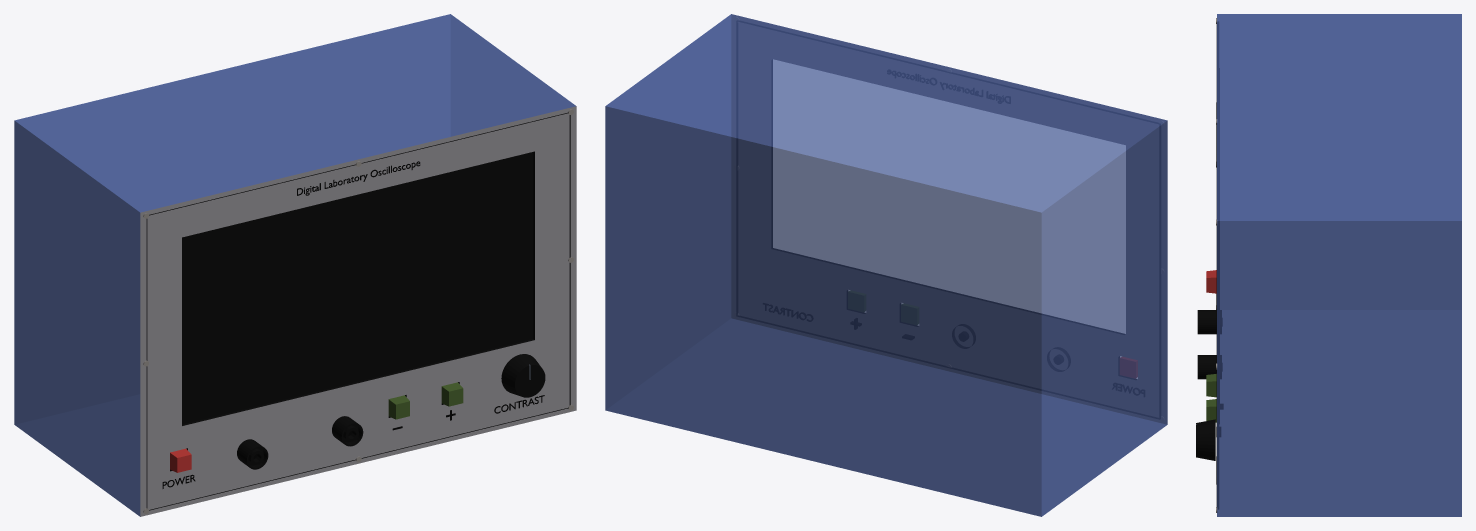
Rendered from oscilloscope.glb.
The picture shows the model from 3 angles, left to right: view 1: azimuth 30°, elevation 25°; view 2: azimuth 150°, elevation 25°; view 3: azimuth 270°, elevation 25°; orthographic projection. The views are drawn at different scales.
Parts seen in each view (by area): view 1: Cube, contrast; view 2: Cube; view 3: Cube, contrast.
Part boxes in pixels (bbox=[...]): Cube: bbox=[14, 14, 576, 516]; contrast: bbox=[501, 354, 545, 397]; Cube: bbox=[605, 14, 1167, 516]; Cube: bbox=[1197, 14, 1461, 516]; contrast: bbox=[1196, 419, 1215, 460].
Size of the model in its own units: 300 by 200 by 163.
